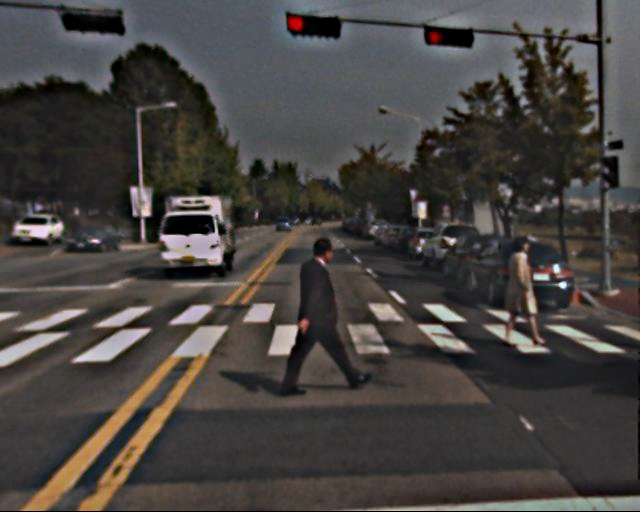person: (289, 238, 353, 394), (500, 237, 546, 349)
